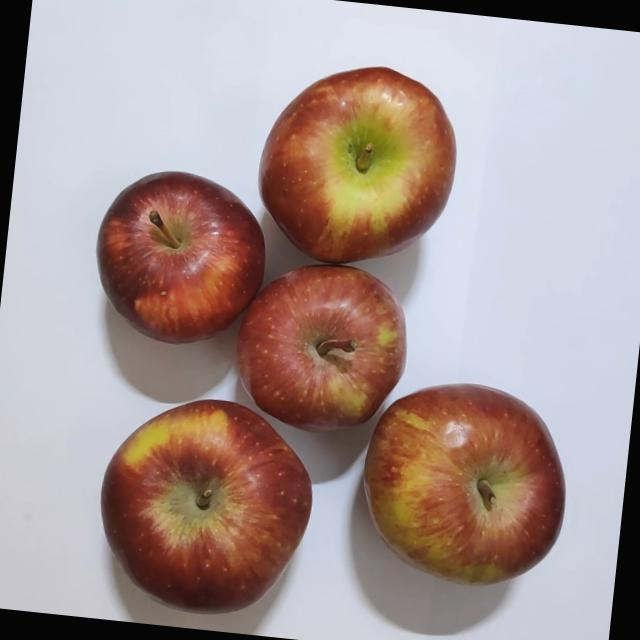apple: (94, 387, 334, 629), (350, 366, 580, 606), (253, 77, 476, 296), (237, 264, 422, 446), (104, 180, 282, 362)
